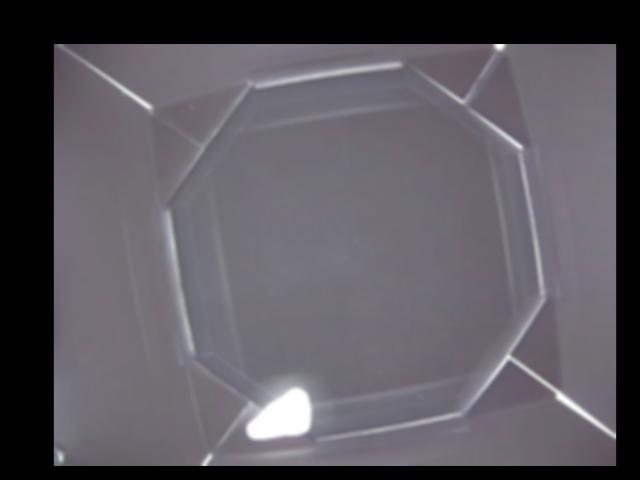Pebble: (247, 386, 313, 440)
